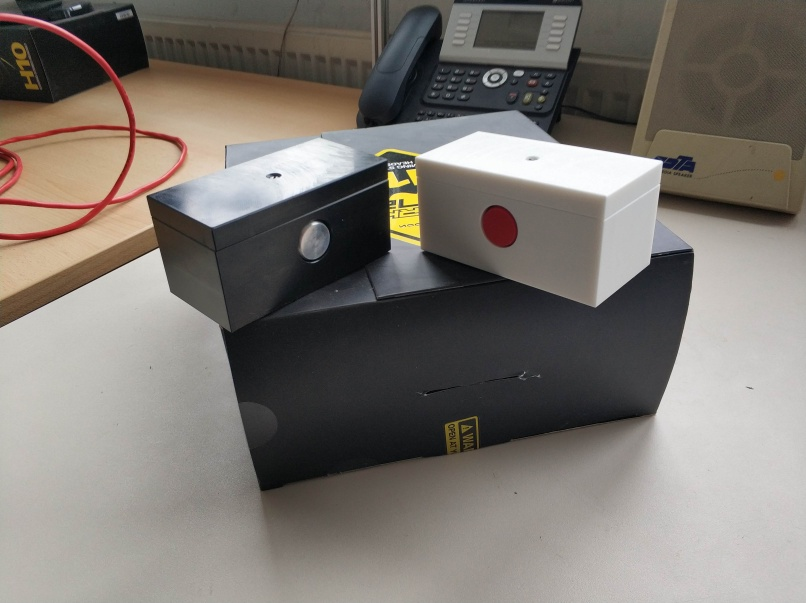black+black+silver: (143, 132, 402, 337)
white+white+red: (412, 126, 668, 310)
